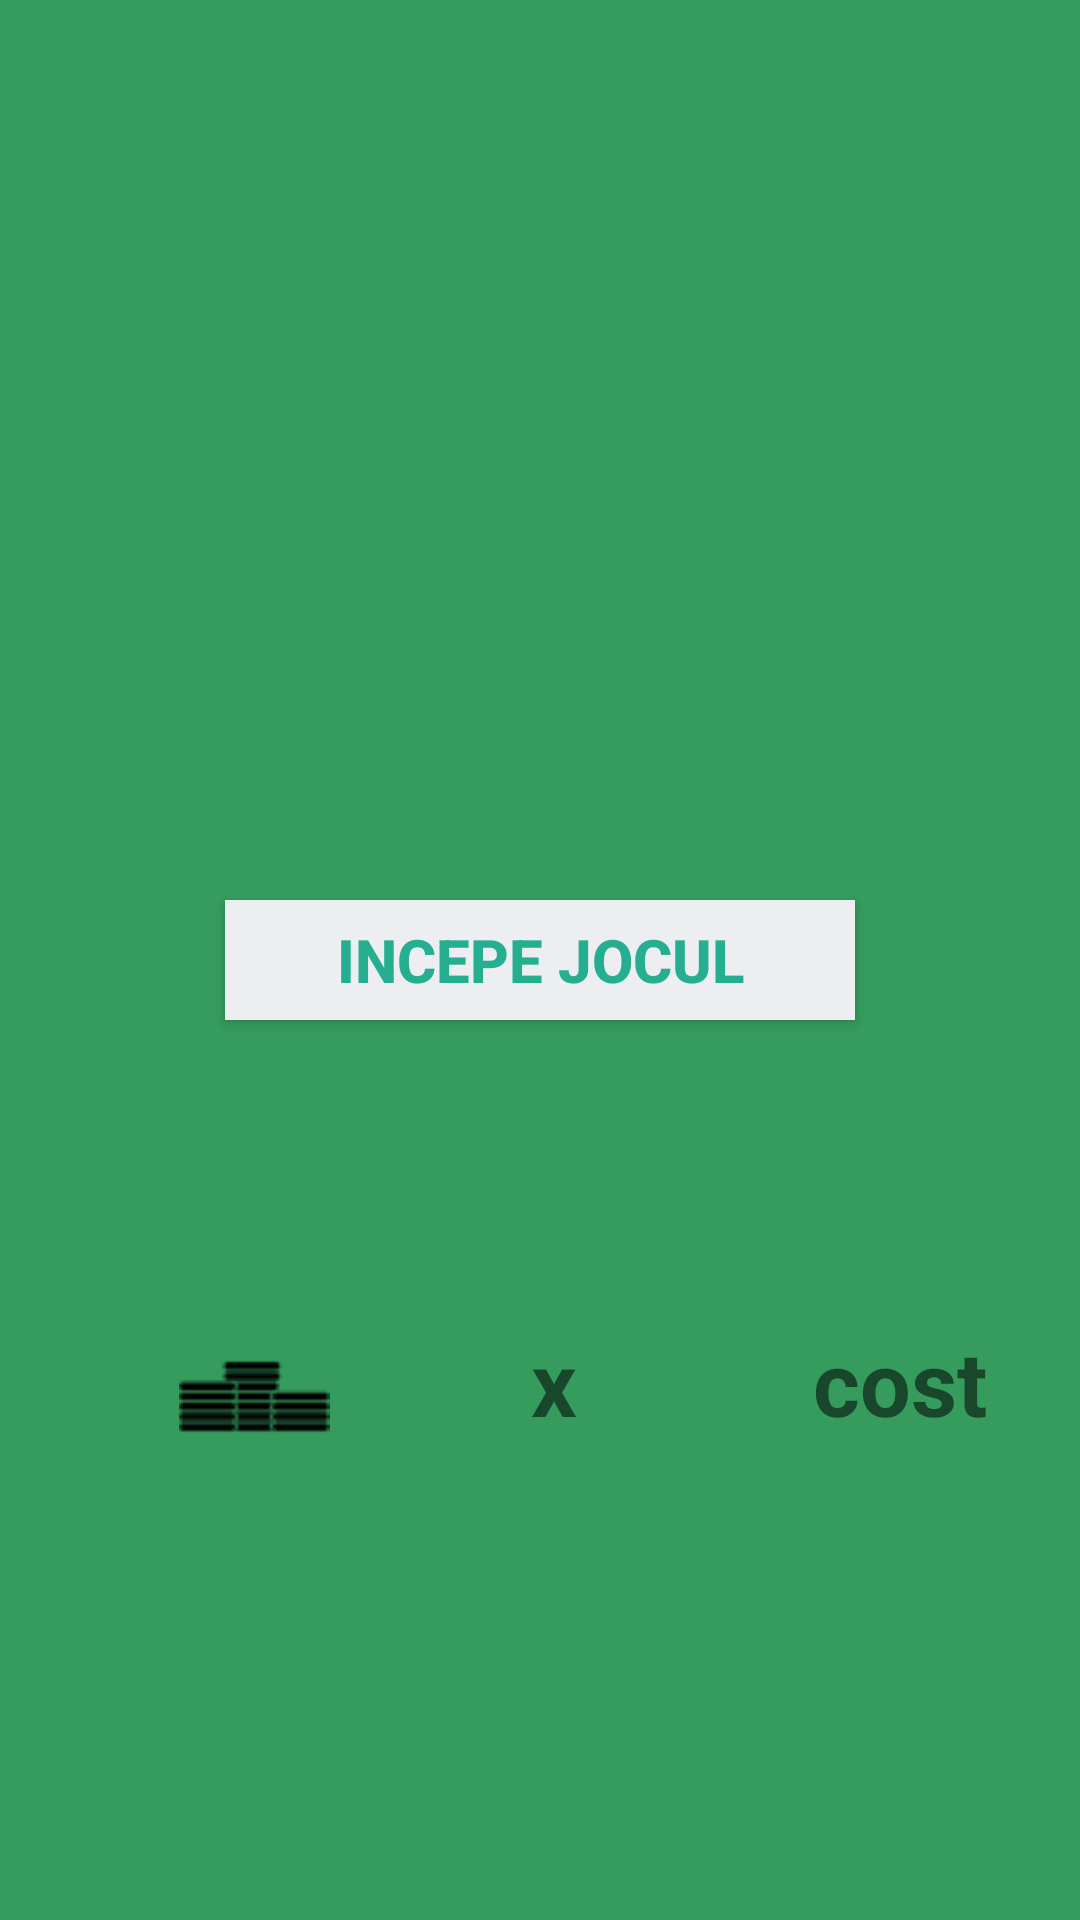

Icon bounding boxes for this 1080×1920 phone screenshot, format bbox(x1, y1, x2, y2):
coins: bbox(179, 1361, 330, 1432)
